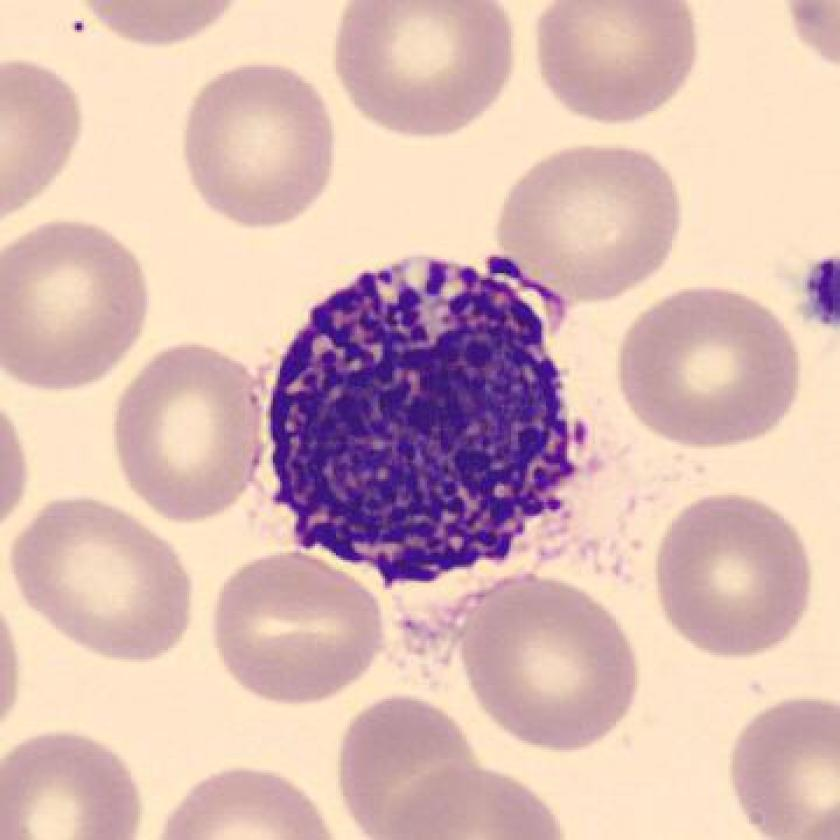basophil: (253, 246, 603, 589)
